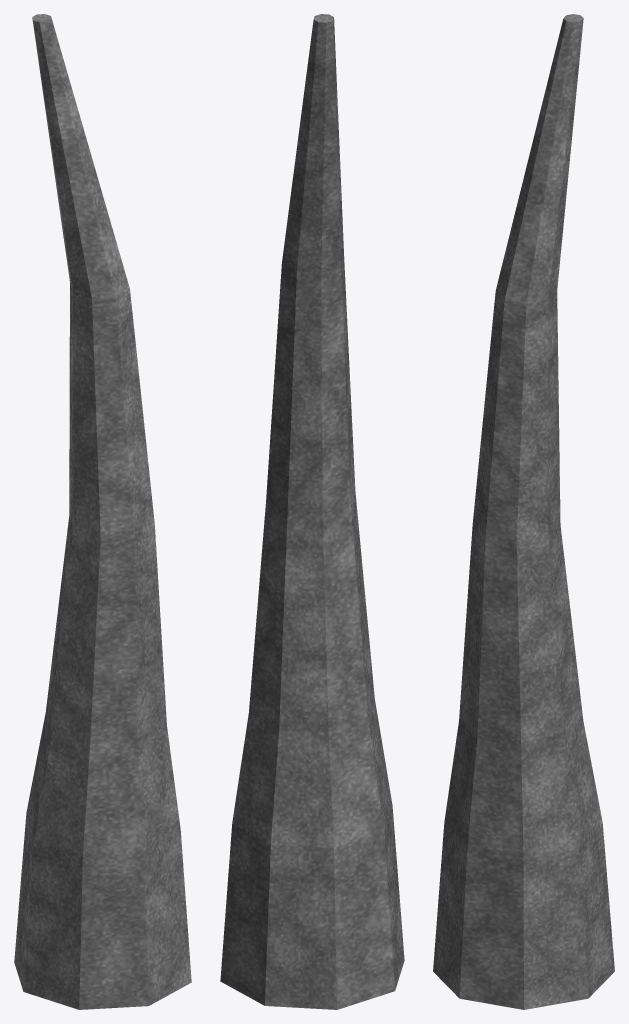
The model's file is spike individual var 1.fbx.
The picture shows the model from 3 angles, left to right: view 1: azimuth 30°, elevation 25°; view 2: azimuth 150°, elevation 25°; view 3: azimuth 270°, elevation 25°; orthographic projection. The views are drawn at different scales.
Visible parts, largest first — view 1: spike individual var 1; view 2: spike individual var 1; view 3: spike individual var 1.
Boxes of the visible parts, left/top/right/bottom form: spike individual var 1: left=14, top=14, right=191, bottom=1009; spike individual var 1: left=220, top=14, right=404, bottom=1009; spike individual var 1: left=433, top=14, right=614, bottom=1009.
Size of the model in its own units: 231 by 1310 by 231.
